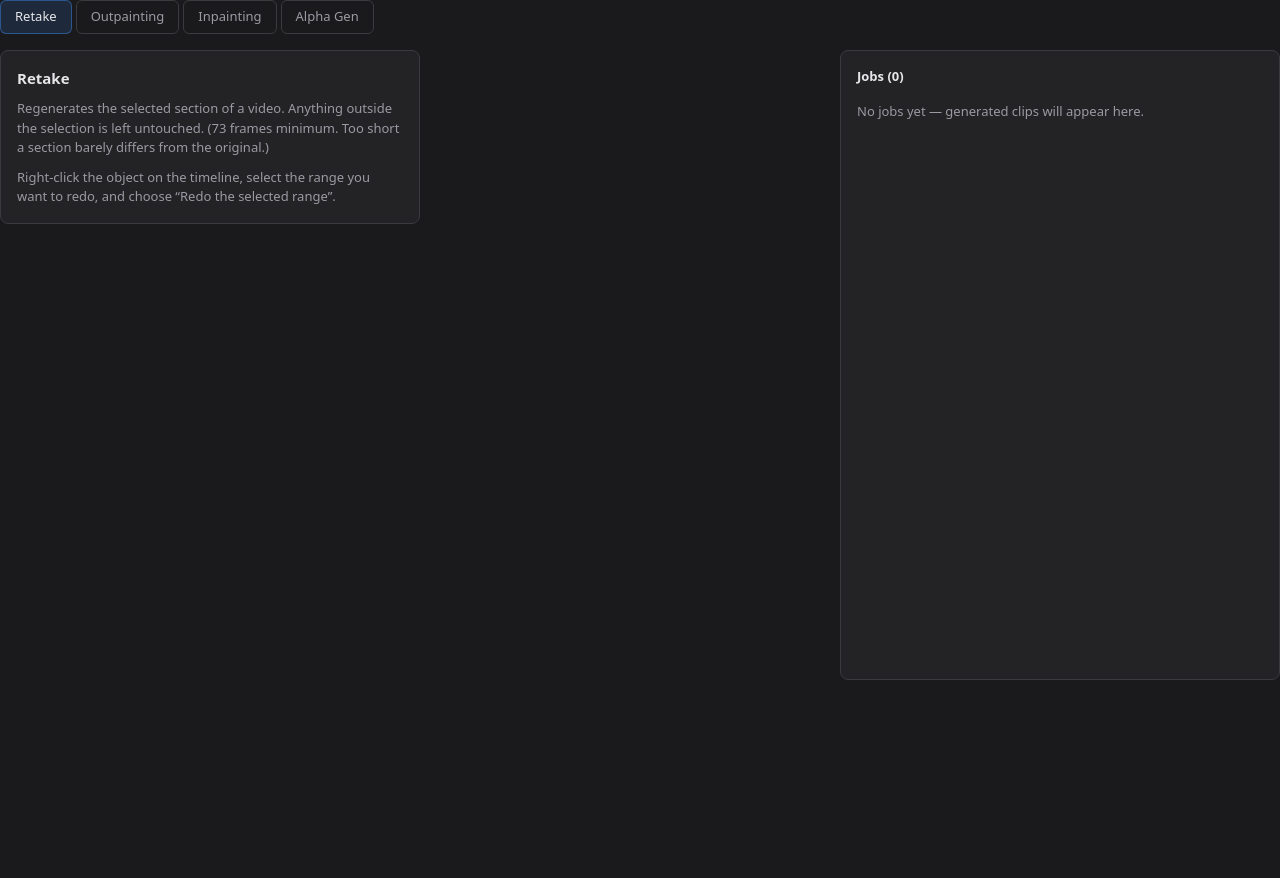
Scenario: EditScreen sub-tabs › switches to the Inpainting panel when its sub-tab is clicked
The width and height of the screenshot is (1280, 878).
Click the tab "Inpainting" at (230, 17), box [183,0,276,34]
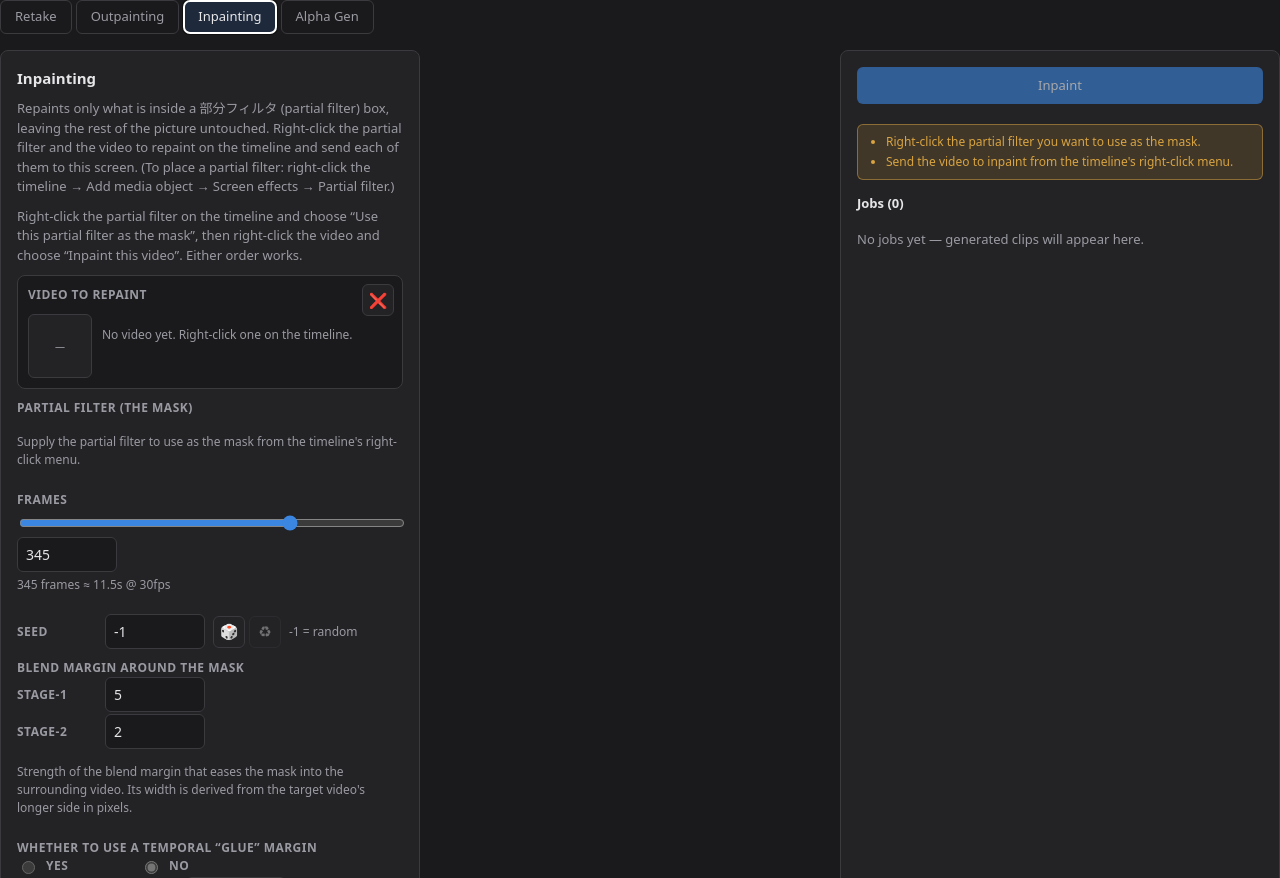
Expected: the heading "Inpainting" is shown, [17,68,96,88]
